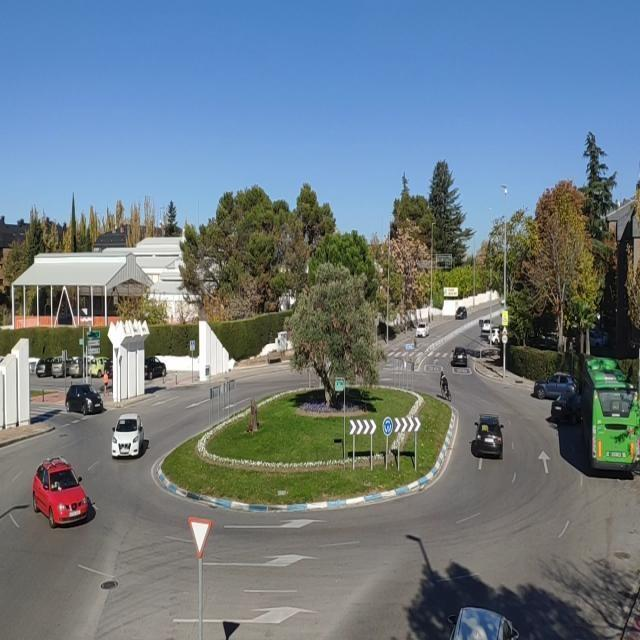Bus: (580, 354, 640, 472)
Car: (32, 458, 90, 527), (444, 607, 520, 640), (111, 414, 145, 457), (473, 414, 505, 458), (533, 372, 579, 400), (65, 384, 104, 415), (550, 390, 582, 424), (144, 357, 167, 380), (51, 356, 75, 378), (86, 356, 110, 378), (68, 356, 92, 378), (35, 356, 53, 378), (590, 328, 609, 348), (451, 347, 468, 367), (489, 326, 503, 346), (415, 322, 429, 338), (104, 356, 113, 378), (480, 319, 492, 334), (455, 306, 467, 319)
Cycle: (439, 380, 452, 402)
